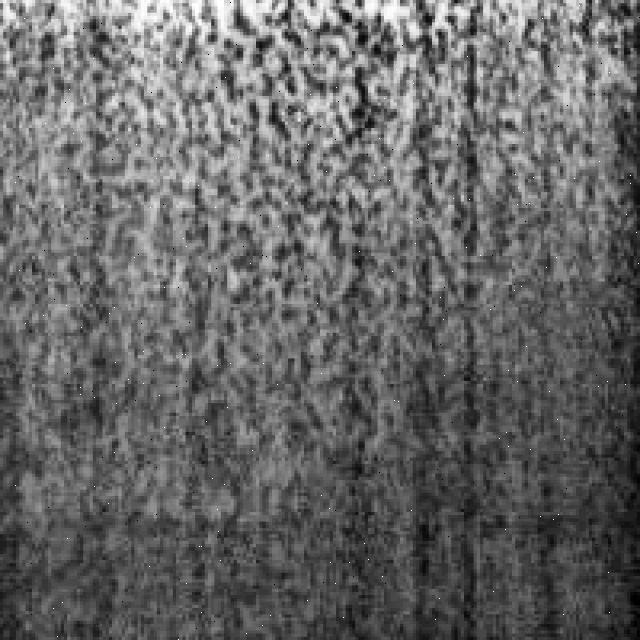Rolled_in_Scale: (9, 6, 636, 406)
